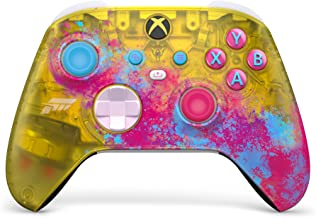gamingconsole: (7, 2, 310, 213)
